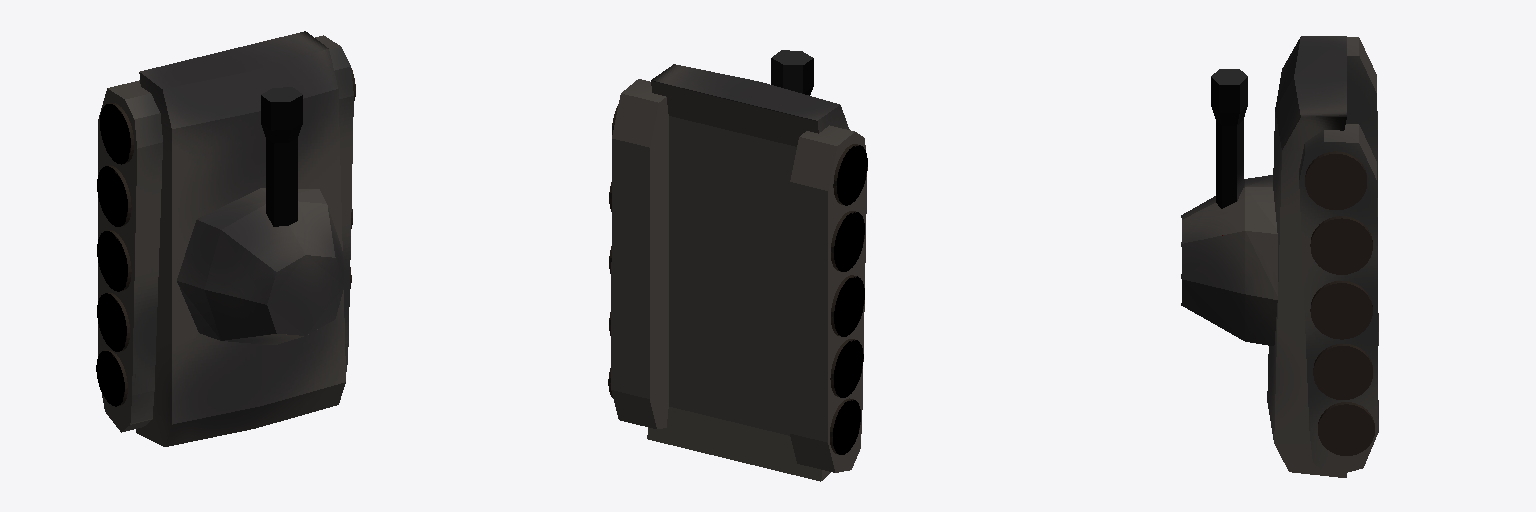
3 views of the same model, side by side, from view 1: azimuth 30°, elevation 25°; view 2: azimuth 150°, elevation 25°; view 3: azimuth 270°, elevation 25° (orthographic).
Visible parts, largest first — view 1: body1_Cube.004, head_1_Cube, body.001_Cube.006, head3_Cube.012, body2_Cube.010, body.003_Cylinder.008, body4_Cylinder.007, body.002_Cylinder.006, body.004_Cylinder.009, body_Cylinder.010; view 2: body1_Cube.004, body2_Cube.010, body.001_Cube.006, head3_Cube.012, body.002_Cylinder.006, body.003_Cylinder.008, body4_Cylinder.007, body.004_Cylinder.009, body_Cylinder.010; view 3: body1_Cube.004, head_1_Cube, body2_Cube.010, head3_Cube.012, body.006_Cylinder.004, body.007_Cylinder.003, body.005_Cylinder.005, body.001_Cube.006, body.008_Cylinder.002, body.009_Cylinder.001.
Part boxes in pixels (x1,y1,x2,y2): body1_Cube.004: (136, 31, 345, 446); head_1_Cube: (177, 188, 343, 344); body.001_Cube.006: (98, 80, 162, 432); head3_Cube.012: (261, 87, 302, 226); body2_Cube.010: (315, 35, 353, 371); body.003_Cylinder.008: (97, 230, 131, 291); body4_Cylinder.007: (97, 165, 131, 226); body.002_Cylinder.006: (100, 103, 133, 164); body.004_Cylinder.009: (97, 292, 129, 351); body_Cylinder.010: (96, 350, 127, 406); body1_Cube.004: (647, 64, 849, 481); body2_Cube.010: (611, 79, 668, 428); body.001_Cube.006: (790, 125, 866, 472); head3_Cube.012: (771, 50, 813, 95); body.002_Cylinder.006: (833, 144, 867, 205); body.003_Cylinder.008: (831, 275, 864, 336); body4_Cylinder.007: (831, 211, 864, 271); body.004_Cylinder.009: (830, 339, 863, 397); body_Cylinder.010: (830, 398, 860, 454); body1_Cube.004: (1267, 36, 1346, 477); head_1_Cube: (1181, 175, 1277, 345); body2_Cube.010: (1299, 124, 1378, 476); head3_Cube.012: (1211, 69, 1247, 208); body.006_Cylinder.004: (1310, 216, 1372, 274); body.007_Cylinder.003: (1310, 281, 1372, 339); body.005_Cylinder.005: (1305, 151, 1366, 209); body.001_Cube.006: (1346, 37, 1378, 345); body.008_Cylinder.002: (1313, 344, 1372, 399); body.009_Cylinder.001: (1318, 402, 1374, 455).
Size of the model in its own units: 68.06 by 104 by 51.66.
Materials: 3 (1 with a texture image).